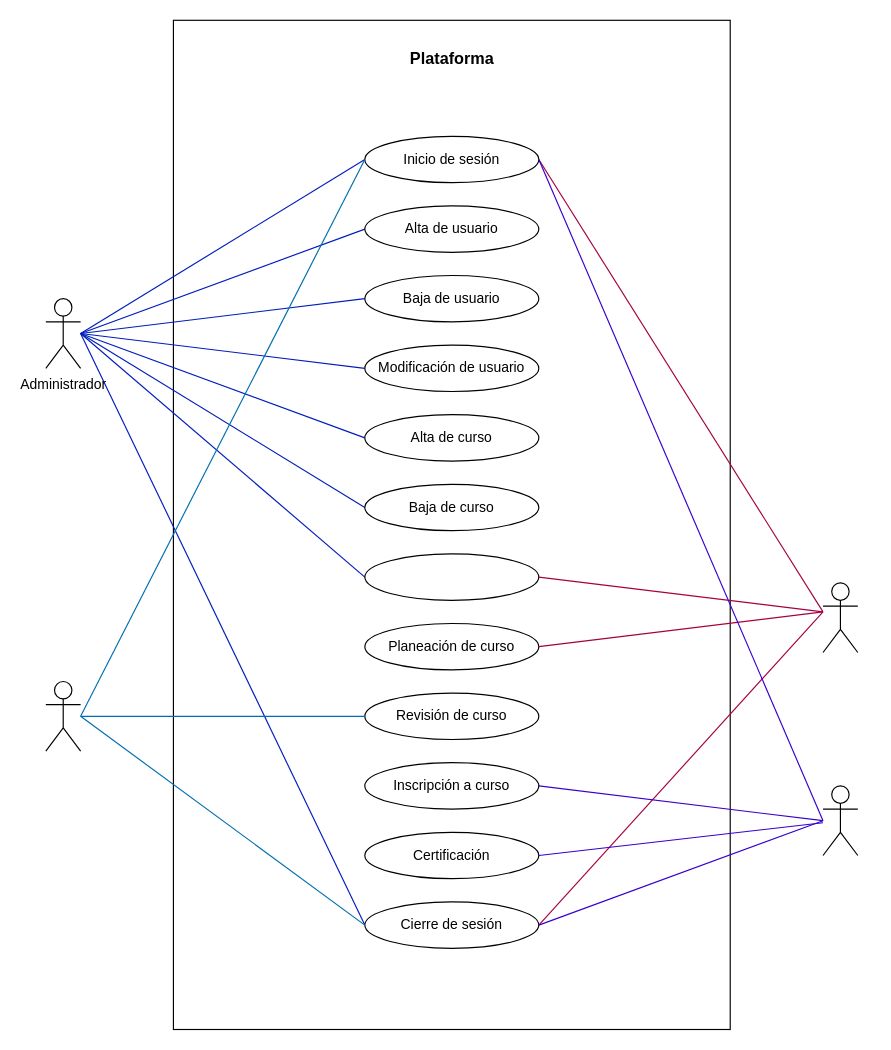
Image size: 891x1050. Some labels were removed from this diagram. The centre of each missing label's shape, as x and y in pixels:
Docente: the point at 840,617
Empleado: the point at 840,820
Modificación de curso: the point at 451,576
Supervisor: the point at 63,715
